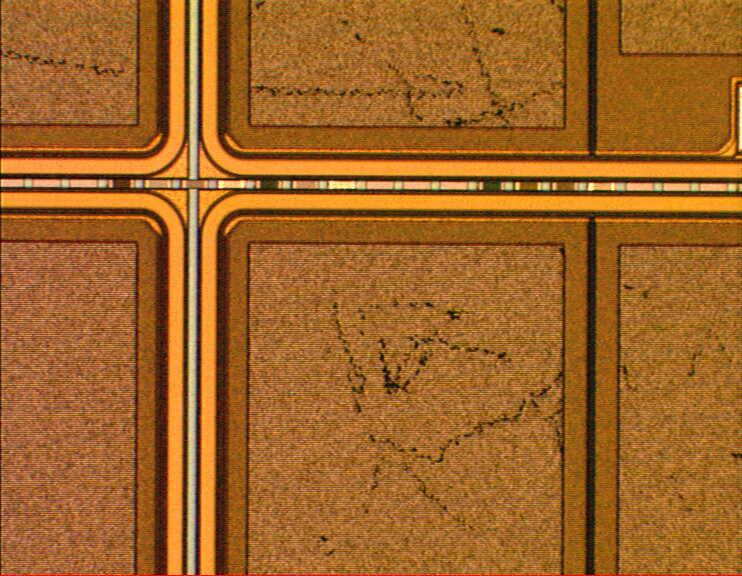SCRATCH: (1, 1, 582, 538)
